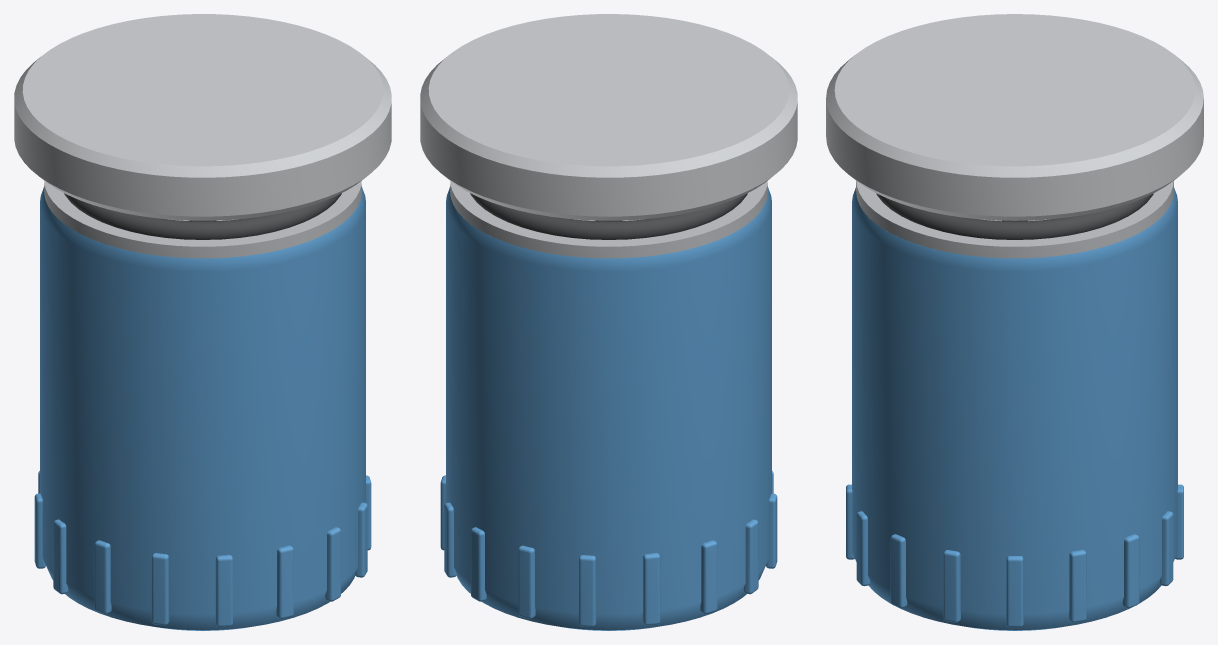
File: oil_filter.glb
The picture shows the model from 3 angles, left to right: view 1: azimuth 30°, elevation 25°; view 2: azimuth 150°, elevation 25°; view 3: azimuth 270°, elevation 25°; orthographic projection.
Parts seen in each view (by area): view 1: canister, adapter, base_plate, gasket; view 2: canister, adapter, base_plate, gasket; view 3: canister, adapter, base_plate, gasket.
Part boxes in pixels (x1,y1,x2,y2): canister: [34, 187, 371, 630]; adapter: [14, 14, 391, 220]; base_plate: [44, 181, 361, 258]; gasket: [64, 193, 341, 239]; canister: [440, 187, 777, 630]; adapter: [420, 14, 797, 220]; base_plate: [450, 181, 767, 258]; gasket: [470, 193, 747, 239]; canister: [846, 188, 1183, 630]; adapter: [826, 14, 1203, 220]; base_plate: [856, 181, 1173, 258]; gasket: [876, 193, 1153, 239].
Size of the model in its own units: 88 by 125 by 88.
